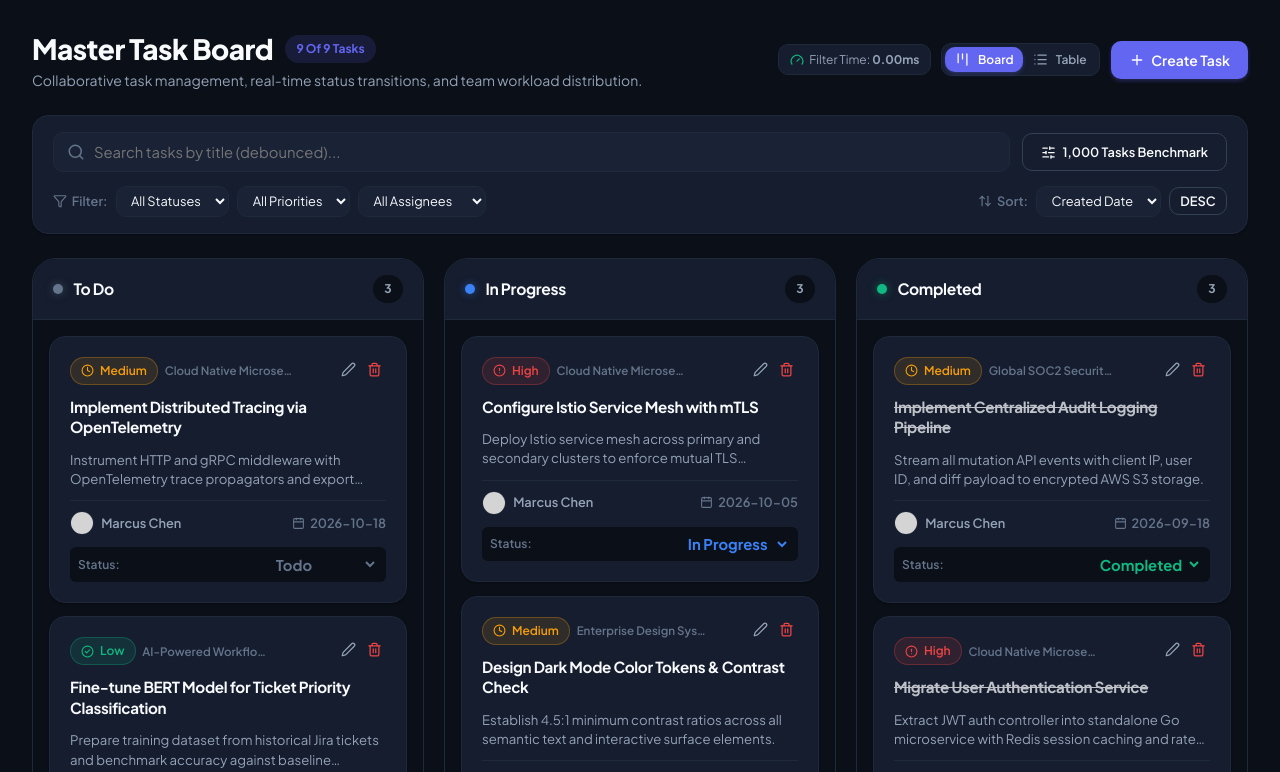
Test: Task Lifecycle: Edit, Status Transition, and Deletion › allows editing an existing task
Expected: the heading "Configure Istio Service Mesh with mTLS" is shown, [482,397,798,417]
Click the button named "Edit Configure Istio Service Mesh with mTLS". click: (760, 371)
box: [749,358,772,384]
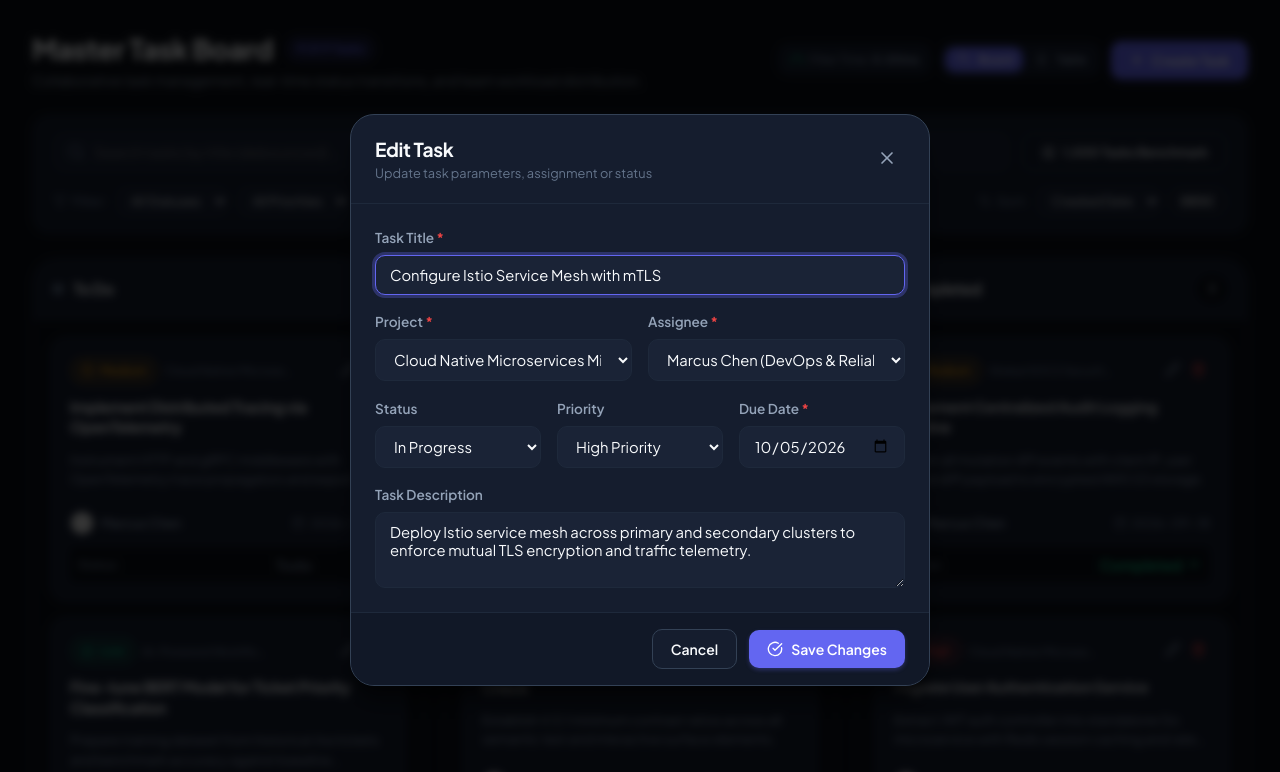
Now the dialog is shown, box [350,114,930,686]
Now the heading "Edit Task" is shown, box [375,137,453,161]
Replace the text in the field labelled "Task Title *" with "Configure Istio Mesh with Mutual TLS v2". click: (640, 275)
box: [375,255,905,295]
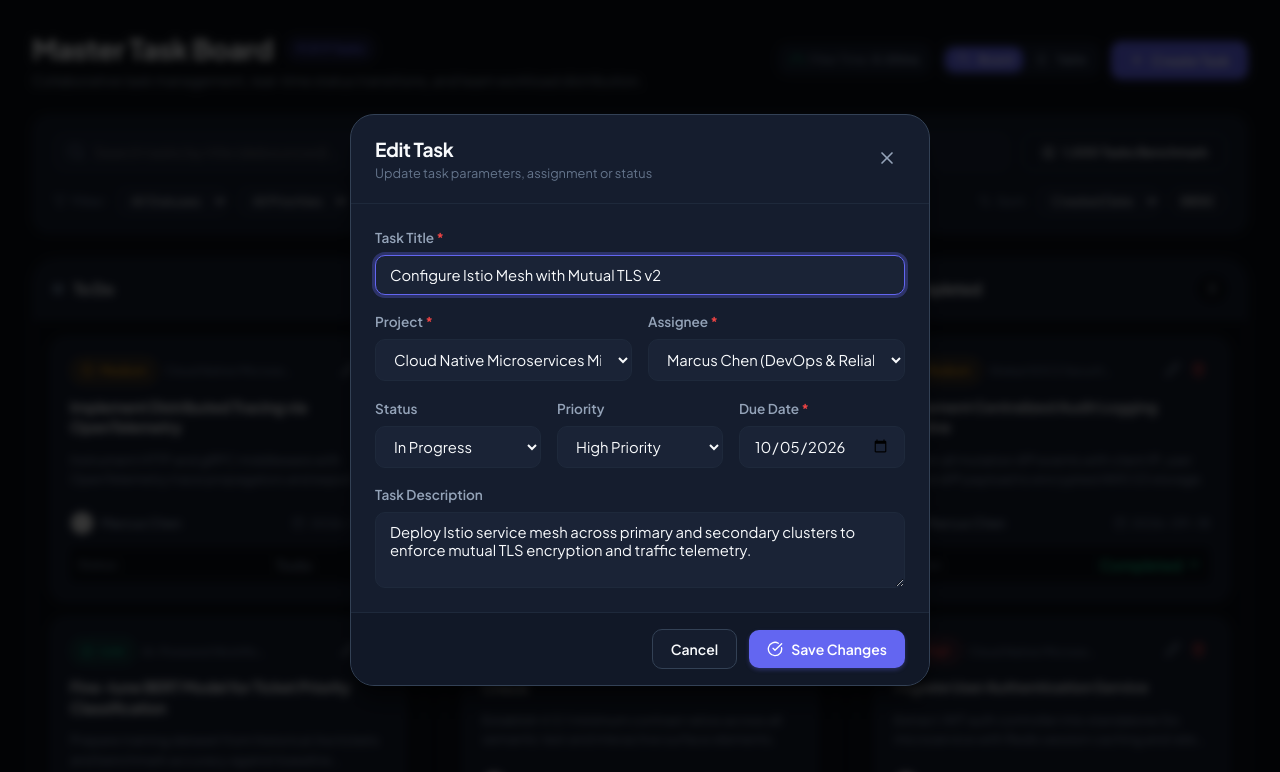
Click the button "Save Changes". click: (827, 649)
box: [749,630,905,668]
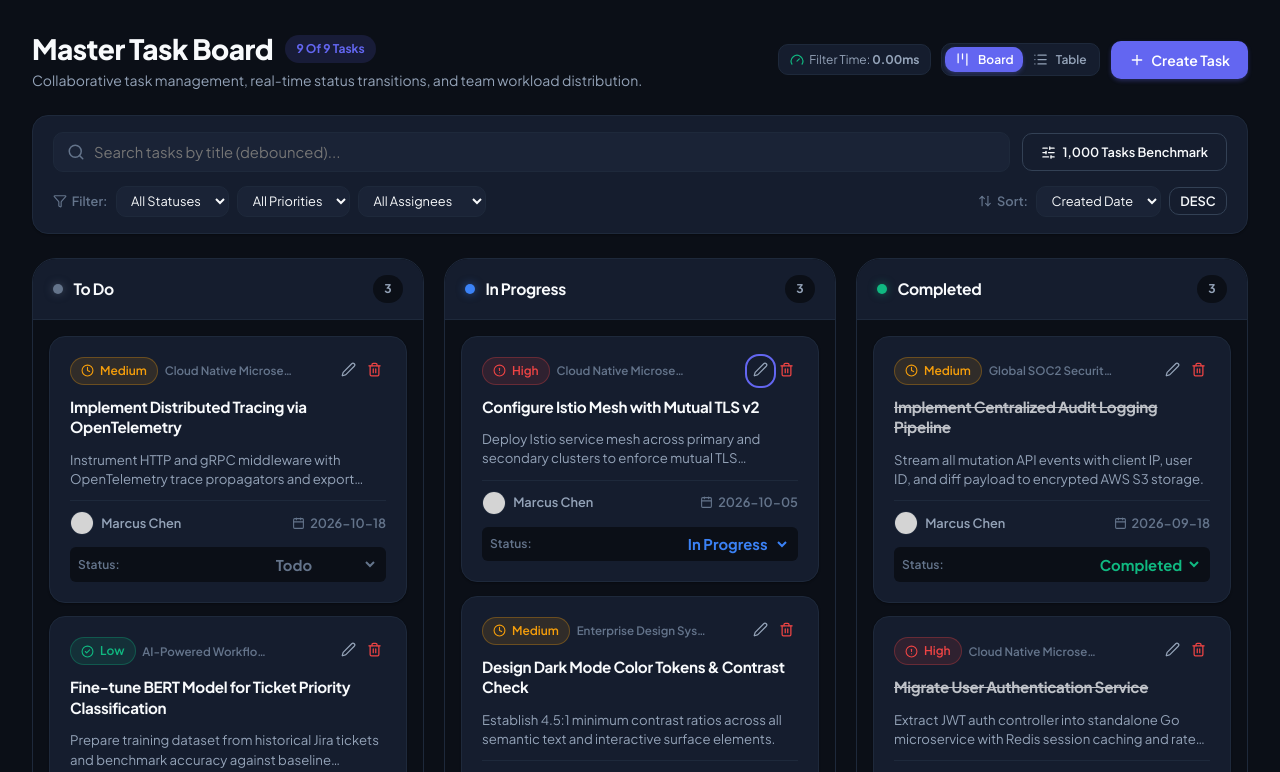
Now the dialog is gone
Now the heading "Configure Istio Mesh with Mutual TLS v2" is shown, box [482,397,798,417]
